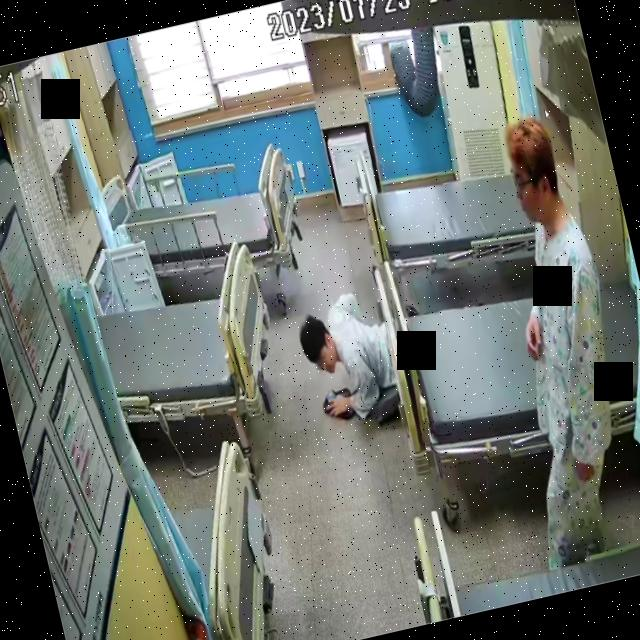bed: (365, 206, 640, 480), (348, 102, 564, 296), (91, 240, 288, 440), (116, 146, 306, 296)
fall: (290, 278, 418, 428)
patient: (460, 113, 640, 568), (291, 276, 423, 431)
stand: (459, 112, 640, 567)
